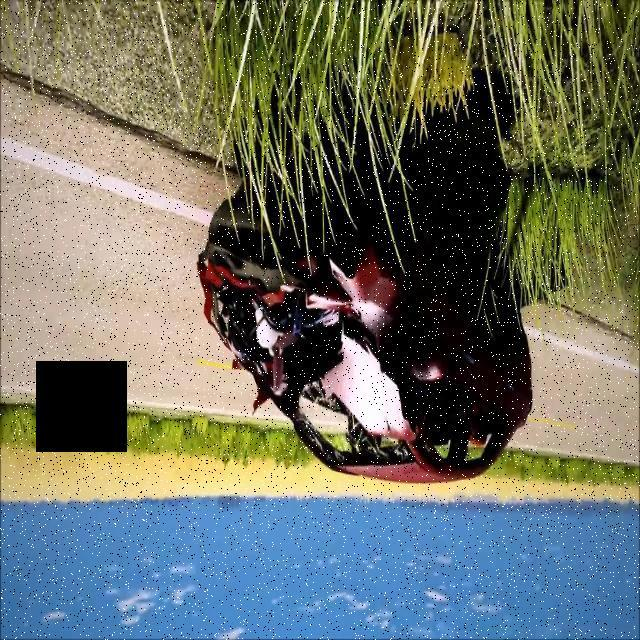severe: (193, 188, 537, 488)
